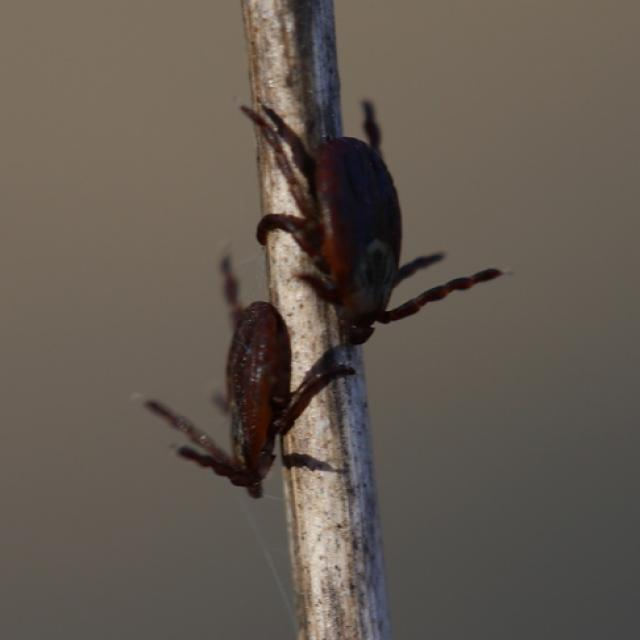Dermacentor Reticulatus-F: (240, 100, 506, 347)
